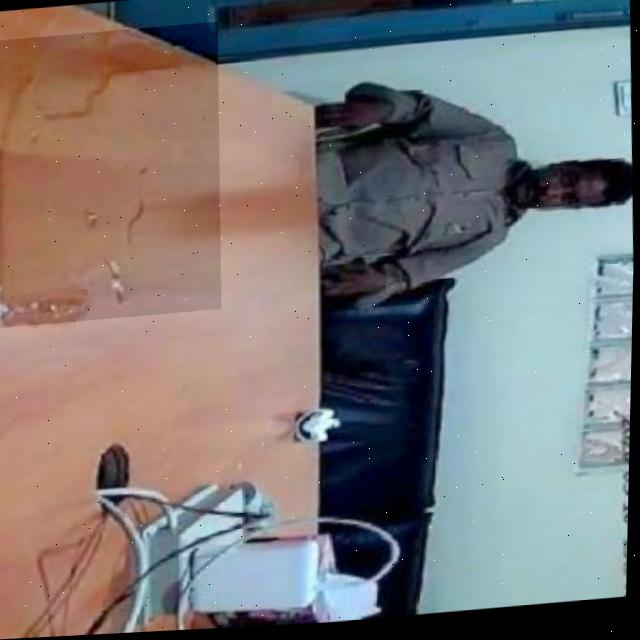spillage: (0, 31, 218, 324)
